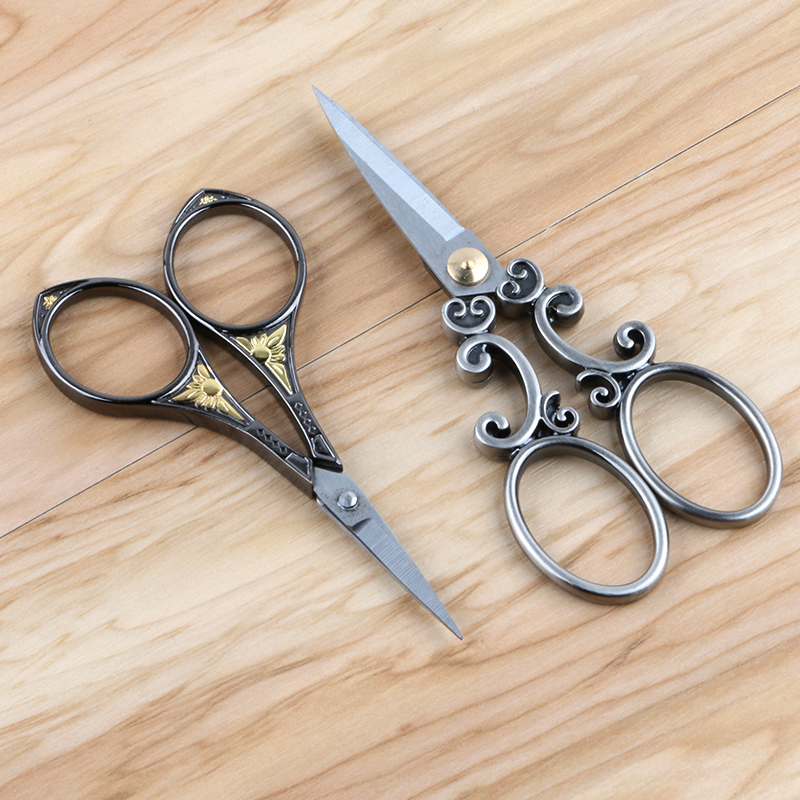scissors: (308, 83, 790, 604), (24, 181, 480, 657)
